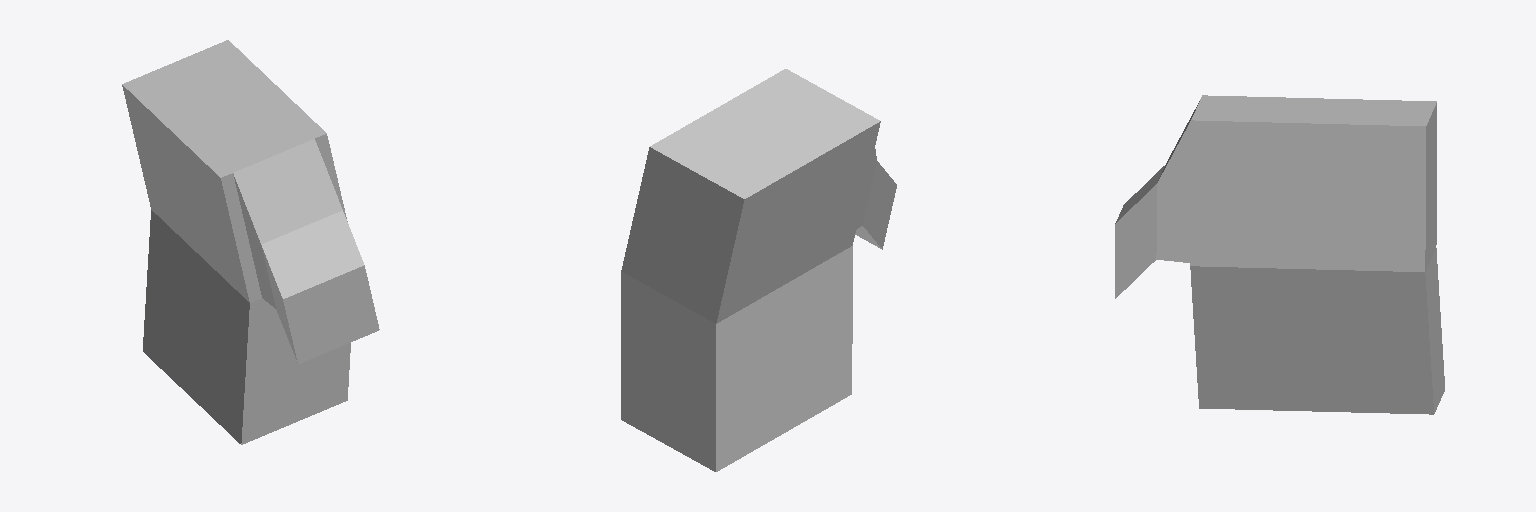
File: R_handO.obj
3 renders of one model, left to right at view 1: azimuth 30°, elevation 25°; view 2: azimuth 150°, elevation 25°; view 3: azimuth 270°, elevation 25°, orthographic.
Visible parts, largest first — view 1: pCube42; view 2: pCube42; view 3: pCube42.
Boxes of the visible parts, x1,y1,x2,y2 form: pCube42: [122, 40, 379, 444]; pCube42: [621, 69, 896, 471]; pCube42: [1115, 95, 1444, 414].
Size of the model in its own units: 0.4579 by 0.8955 by 0.8847.